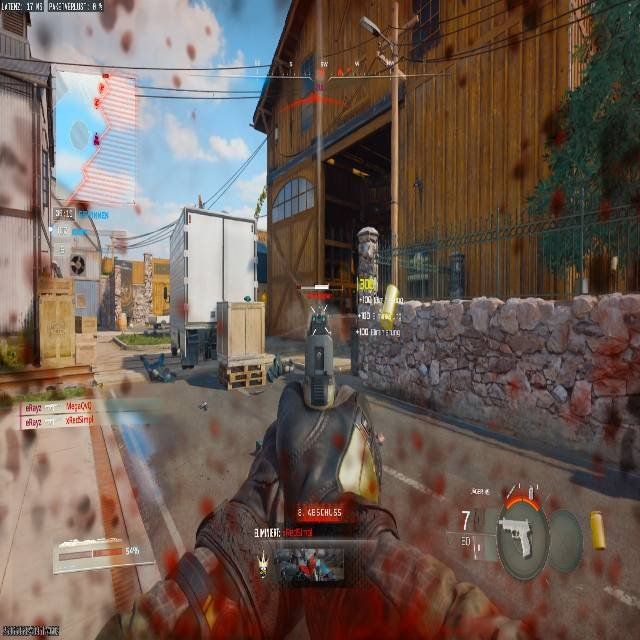player: (249, 232, 273, 290)
